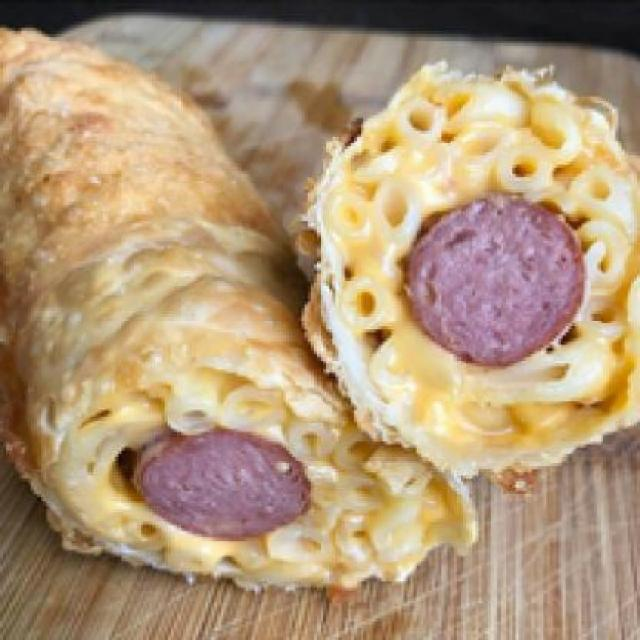hot dog: (401, 186, 587, 366), (114, 419, 323, 541)
macaroni and cheese: (314, 58, 637, 454), (12, 355, 466, 587)
